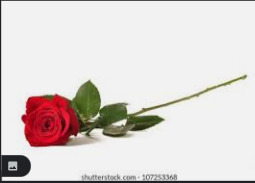RedRose: (16, 94, 83, 148)
